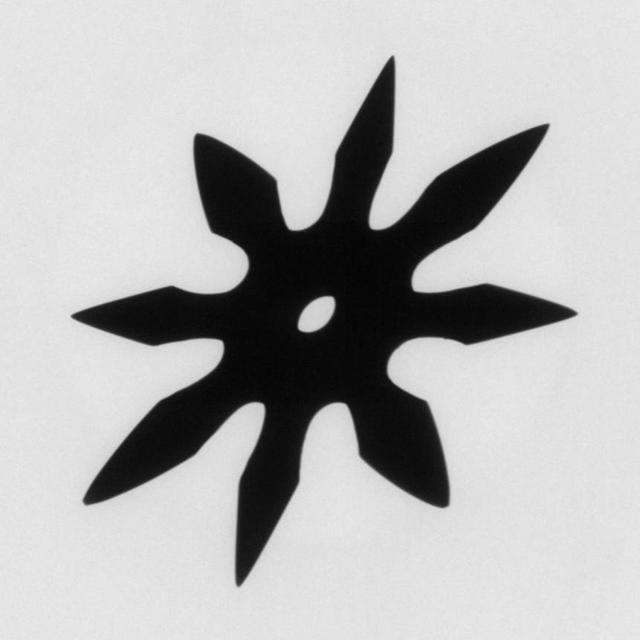shuriken: (65, 54, 591, 593)
